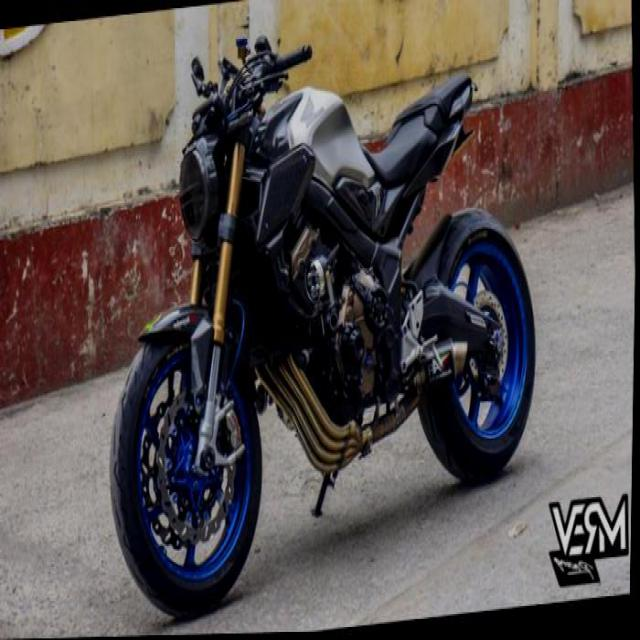CB650R: (98, 57, 547, 632)
